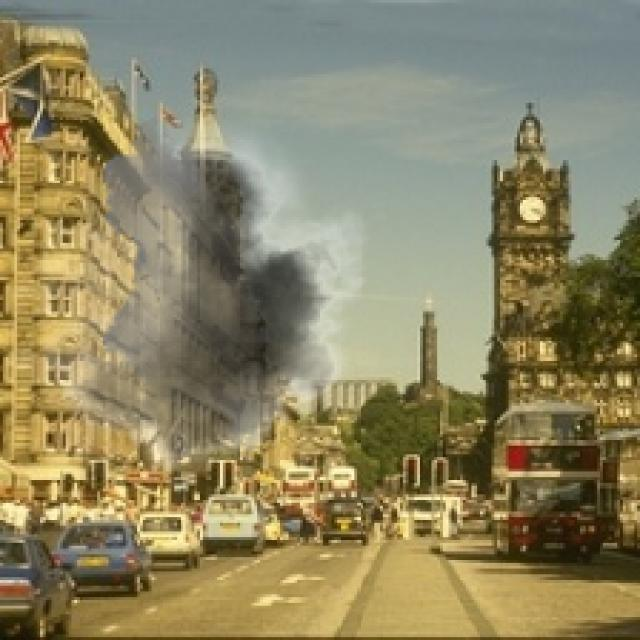smoke: (0, 117, 386, 494)
